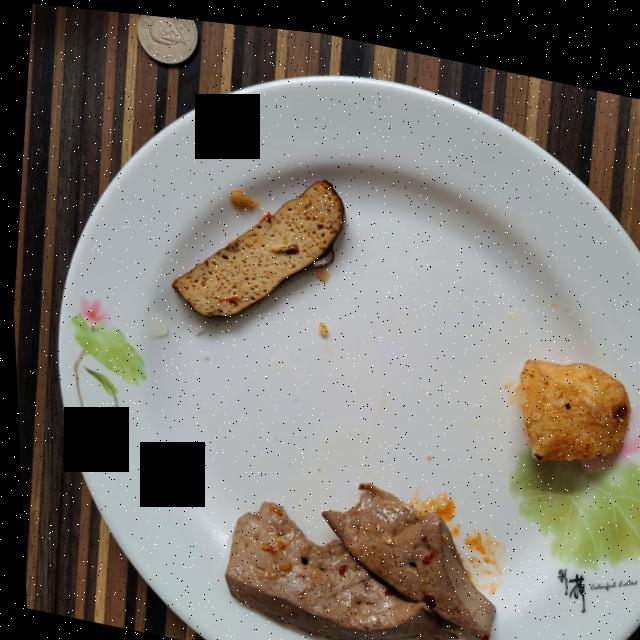coin: (137, 11, 198, 59)
firm tofu: (170, 172, 341, 313)
fried potato: (516, 347, 626, 448)
pig liver: (219, 474, 490, 634)
